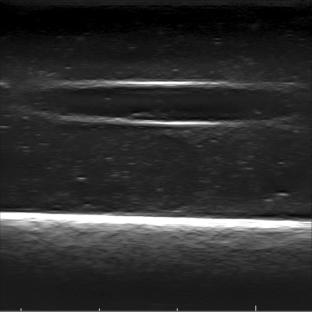vessel: (34, 79, 279, 128)
